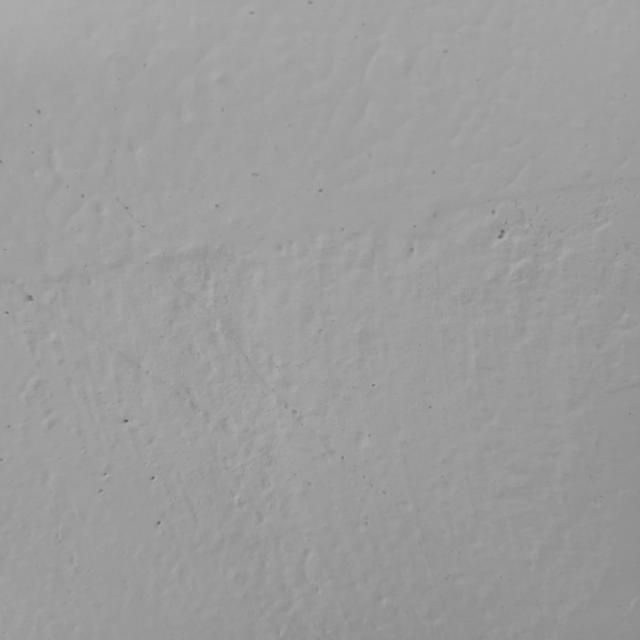rough and patchy surface: (33, 192, 620, 604)
